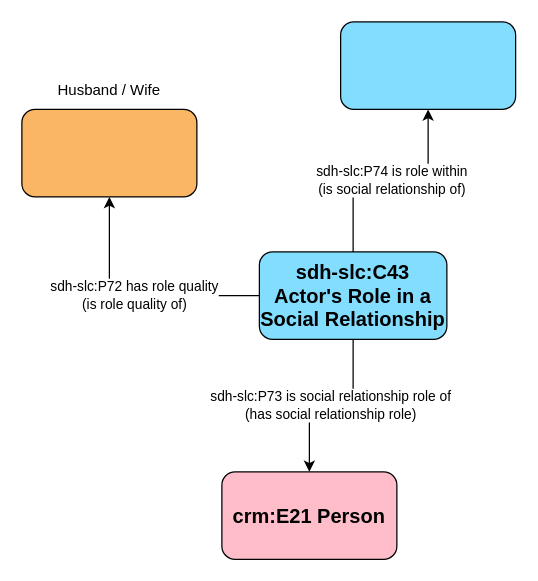
Image size: 538x581. Some labels were removed from this diagram. The centre of each missing label's shape, as x and y in pixels:
sdh-slc:C2 Actor's Social Quality: the point at 109,152
sdh-slc:C3 Social Relationship: the point at 427,65
